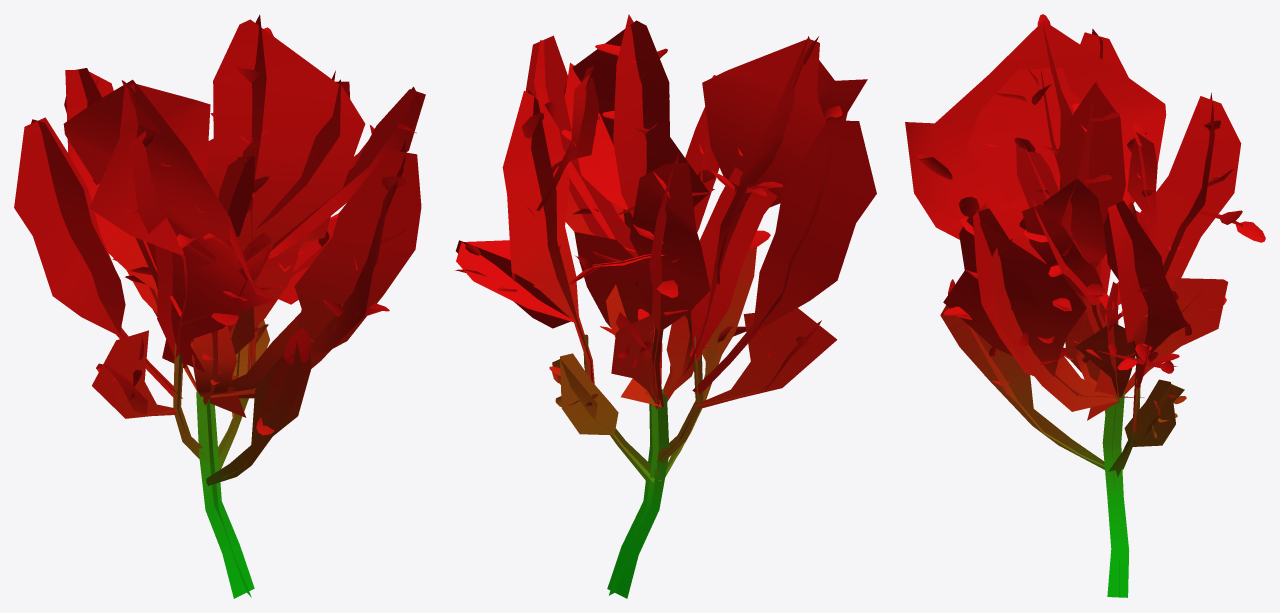
Rendered from Bilberry_LOD0_Var7_vldufeiha.fbx.
The picture shows the model from 3 angles, left to right: view 1: azimuth 30°, elevation 25°; view 2: azimuth 150°, elevation 25°; view 3: azimuth 270°, elevation 25°; orthographic projection. The views are drawn at different scales.
Parts seen in each view (by area): view 1: _bn5u_Var7_LOD0; view 2: _bn5u_Var7_LOD0; view 3: _bn5u_Var7_LOD0.
Boxes of the visible parts, box(x1,y1,x2,y2) form: _bn5u_Var7_LOD0: box(14, 14, 425, 598); _bn5u_Var7_LOD0: box(455, 14, 876, 598); _bn5u_Var7_LOD0: box(905, 14, 1265, 597).
Size of the model in its own units: 13.86 by 19.47 by 12.3.
